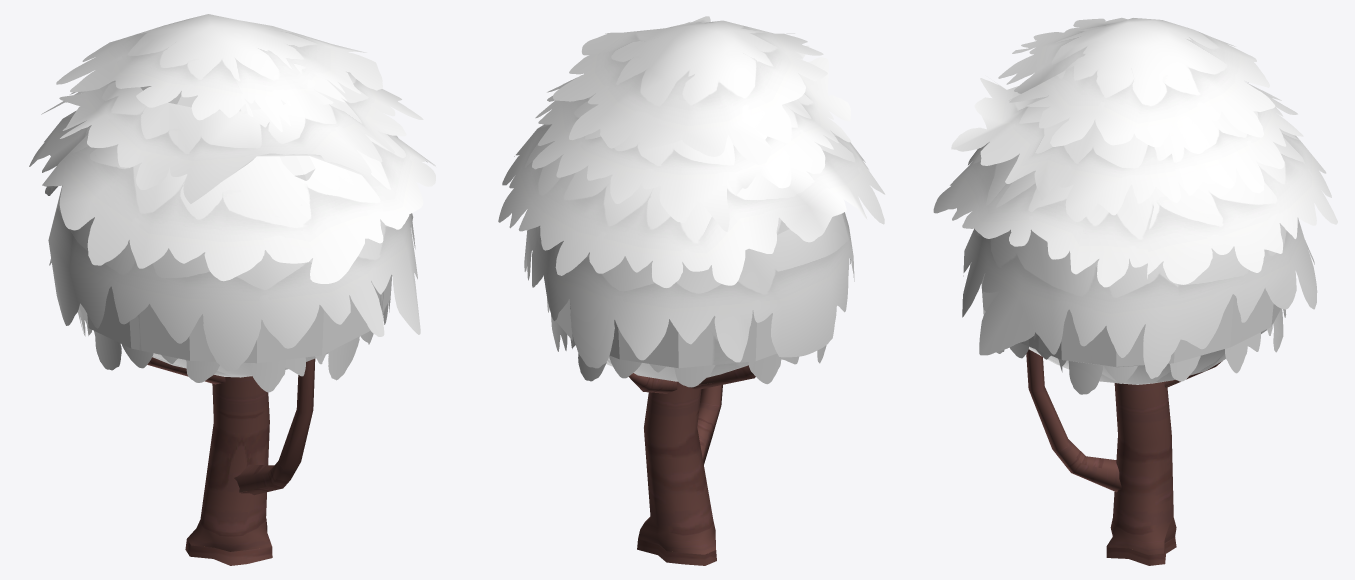
File: TreeEmpty1.fbx
3 views of the same model, side by side, from view 1: azimuth 30°, elevation 25°; view 2: azimuth 150°, elevation 25°; view 3: azimuth 270°, elevation 25° (orthographic). The views are drawn at different scales.
Parts seen in each view (by area): view 1: TreeFruitCrown2a, TreeFruitCrown1a, TreeFruitTrunkSmallA, FruitTreeBranch, TreeFruitStumpSmallA; view 2: TreeFruitCrown2a, TreeFruitTrunkSmallA, TreeFruitCrown1a, FruitTreeBranch, TreeFruitStumpSmallA; view 3: TreeFruitCrown2a, TreeFruitCrown1a, TreeFruitTrunkSmallA, FruitTreeBranch, TreeFruitStumpSmallA.
Part boxes in pixels (<box>): TreeFruitCrown2a: <box>29,14,435,371</box>; TreeFruitCrown1a: <box>78,86,392,392</box>; TreeFruitTrunkSmallA: <box>147,357,272,551</box>; FruitTreeBranch: <box>234,358,315,495</box>; TreeFruitStumpSmallA: <box>185,527,272,565</box>; TreeFruitCrown2a: <box>498,16,885,368</box>; TreeFruitTrunkSmallA: <box>629,365,755,554</box>; TreeFruitCrown1a: <box>547,217,826,387</box>; FruitTreeBranch: <box>697,385,722,464</box>; TreeFruitStumpSmallA: <box>637,538,716,565</box>; TreeFruitCrown2a: <box>933,17,1337,378</box>; TreeFruitCrown1a: <box>981,183,1286,394</box>; TreeFruitTrunkSmallA: <box>1107,361,1222,555</box>; FruitTreeBranch: <box>1026,349,1121,492</box>; TreeFruitStumpSmallA: <box>1106,537,1176,565</box>.
Size of what is drawn, in the model's own units: 4.35 by 5.71 by 4.23.
